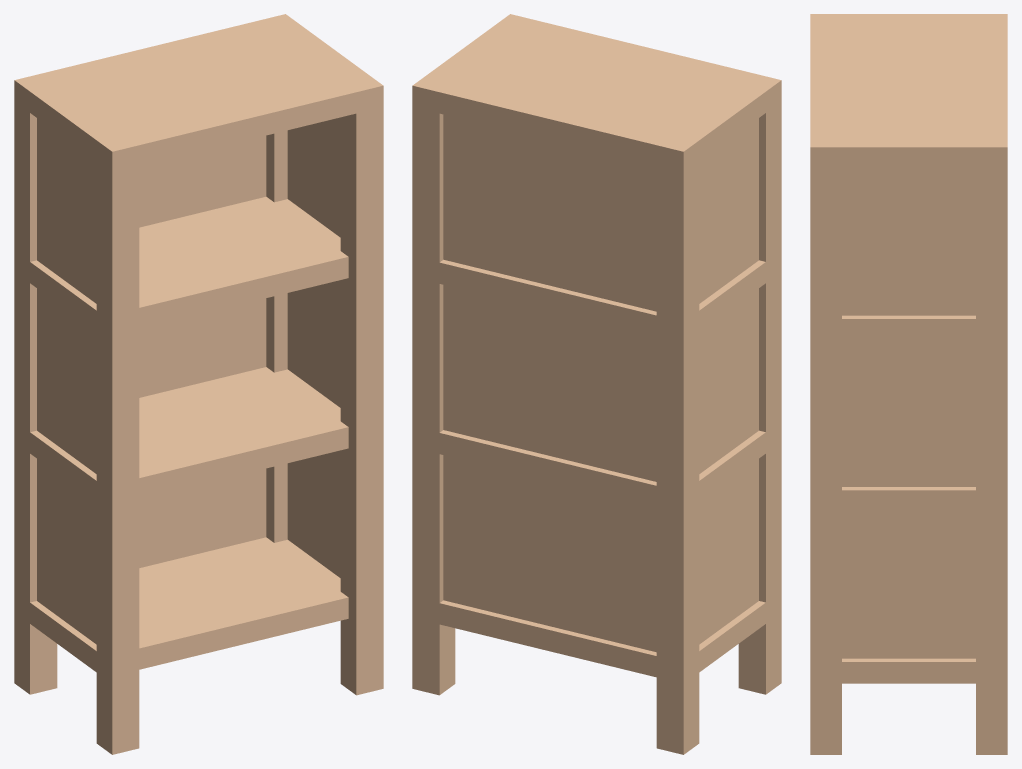
The model's file is bookcaseClosed.glb.
3 views of the same model, side by side, from view 1: azimuth 30°, elevation 25°; view 2: azimuth 150°, elevation 25°; view 3: azimuth 270°, elevation 25° (orthographic).
Visible parts, largest first — view 1: bookcaseClosed(Clone); view 2: bookcaseClosed(Clone); view 3: bookcaseClosed(Clone).
Part boxes in pixels (<box>): bookcaseClosed(Clone): <box>14,14,383,754</box>; bookcaseClosed(Clone): <box>412,14,781,754</box>; bookcaseClosed(Clone): <box>810,14,1007,754</box>.
Size of the model in its own units: 0.4 by 0.85 by 0.25.
